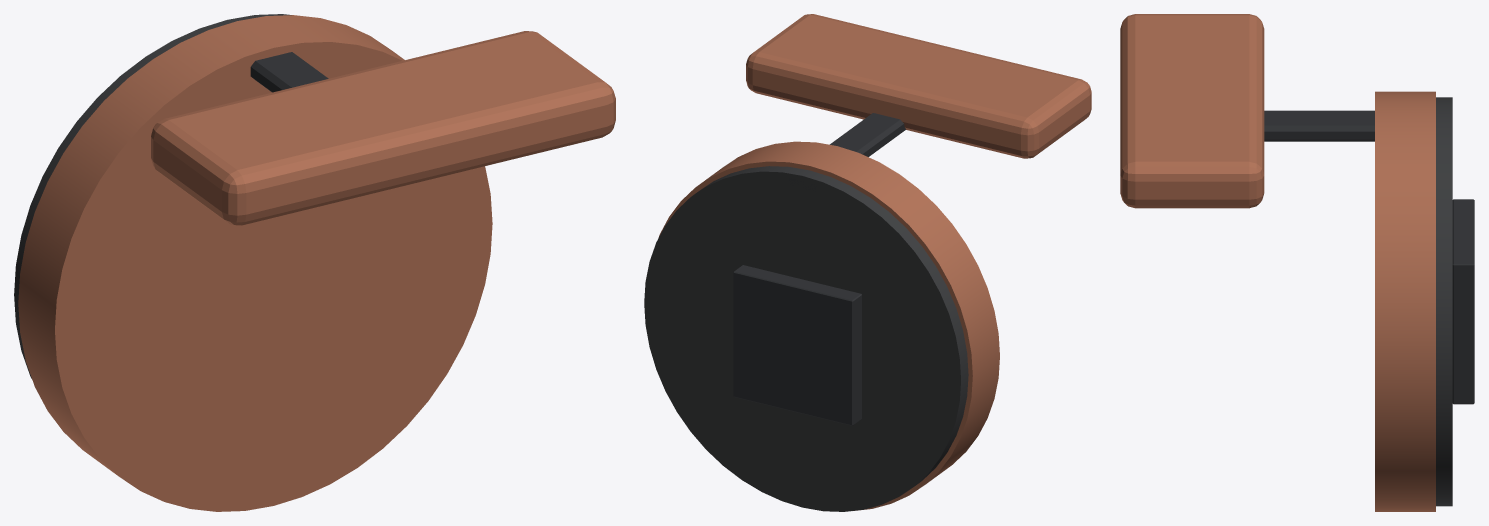
Rendered from swivel_bar_stool_seat.glb.
3 renders of one model, left to right at view 1: azimuth 30°, elevation 25°; view 2: azimuth 150°, elevation 25°; view 3: azimuth 270°, elevation 25°, orthographic. The views are drawn at different scales.
Parts seen in each view (by area): view 1: export_tmp; view 2: export_tmp; view 3: export_tmp.
Boxes of the visible parts, x1,y1,x2,y2 form: export_tmp: (14,14,615,511); export_tmp: (644,14,1091,511); export_tmp: (1120,14,1474,511).
Size of the model in its own units: 0.38 by 0.4025 by 0.32.
